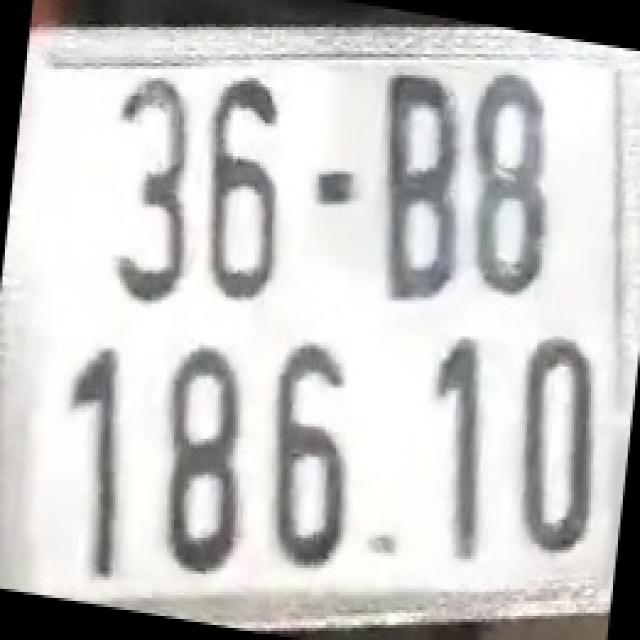0: (520, 333, 596, 553)
1: (66, 342, 128, 580), (432, 330, 488, 565)
3: (108, 72, 191, 304)
6: (204, 72, 282, 301), (272, 339, 348, 568)
8: (471, 66, 552, 298), (164, 339, 243, 574)
B: (378, 69, 461, 304)
